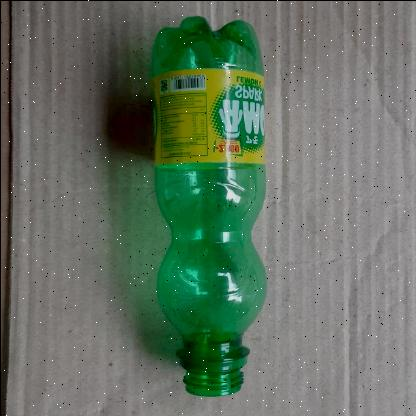Plastic Bottle: (111, 0, 317, 414)
